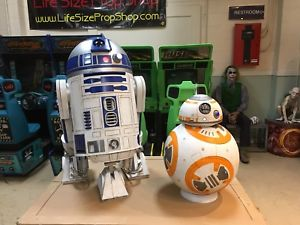r2d2: (56, 37, 150, 201)
